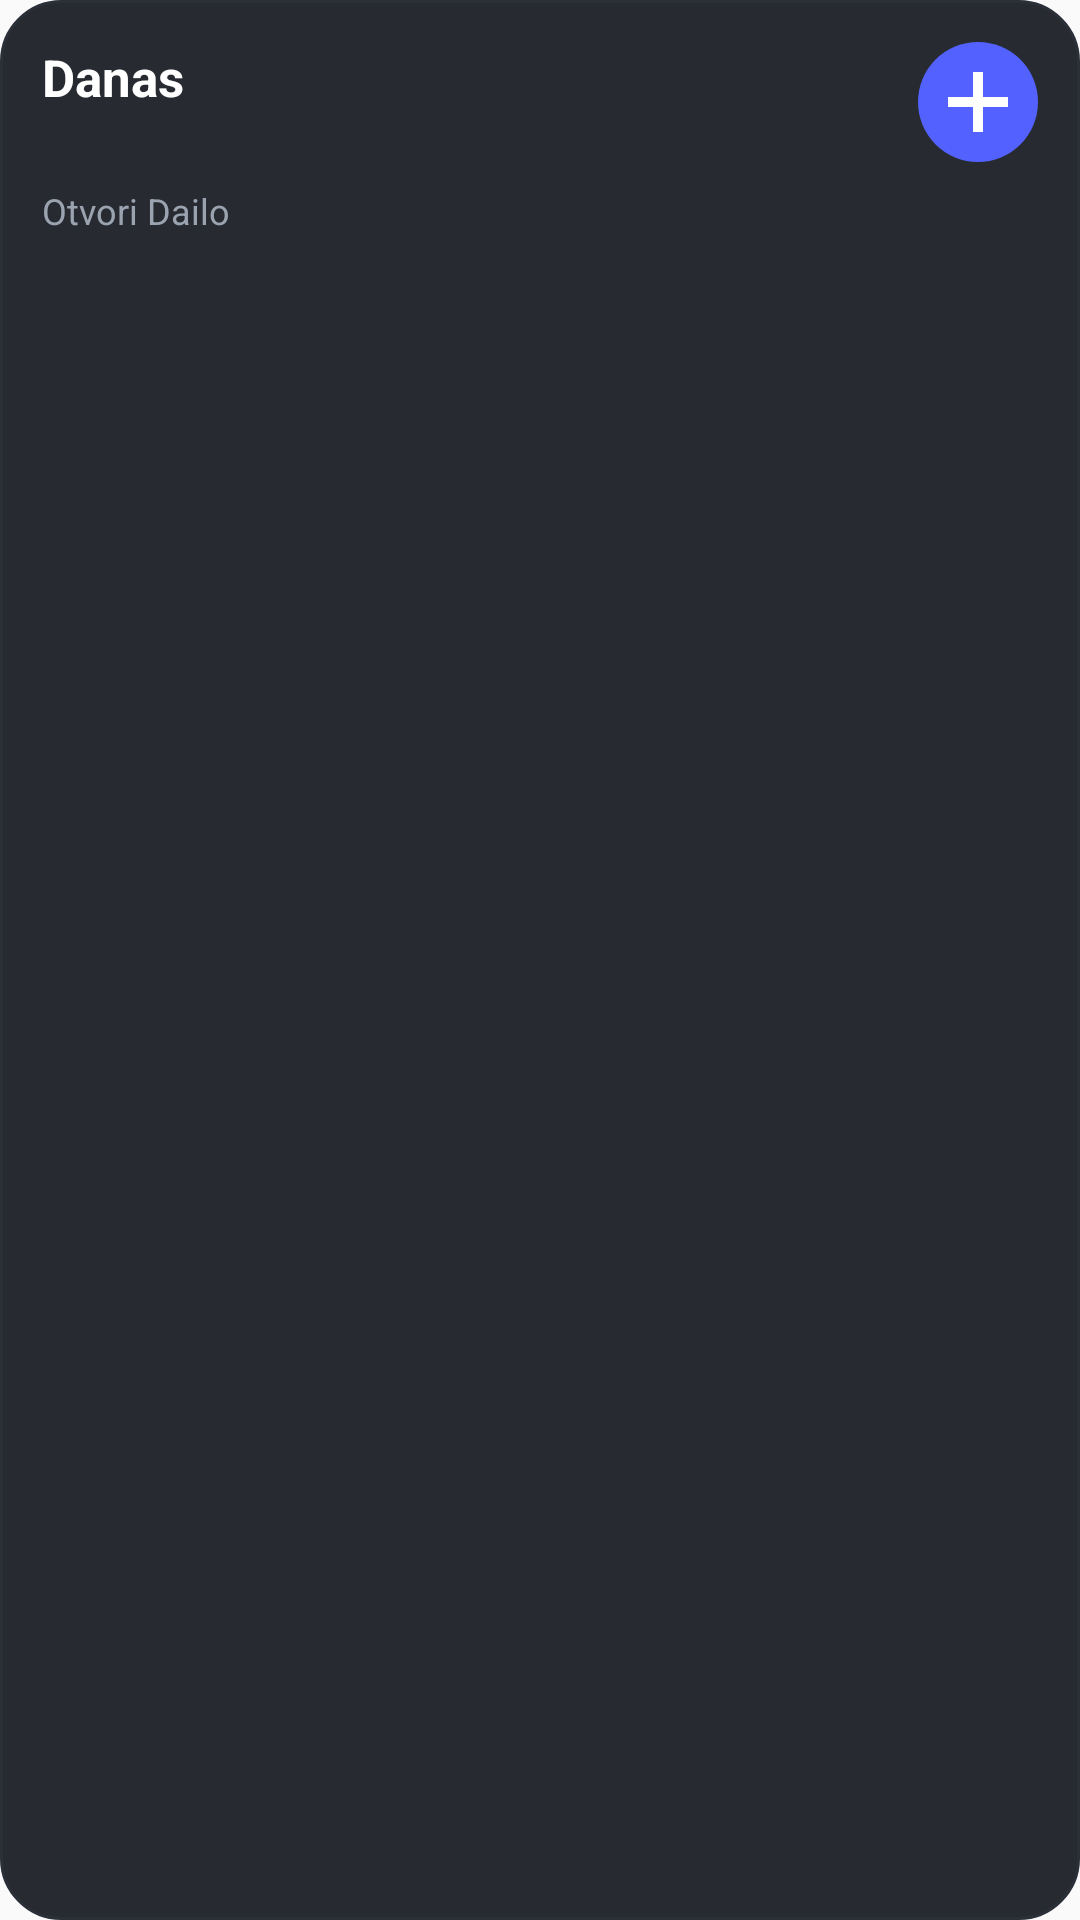

Named icons in this screenshot (1080*1920) and their bounding boxes, {"left": x1, "top": y1, "right": x2, "bottom": y2}:
Novi zadatak: {"left": 918, "top": 42, "right": 1038, "bottom": 162}
